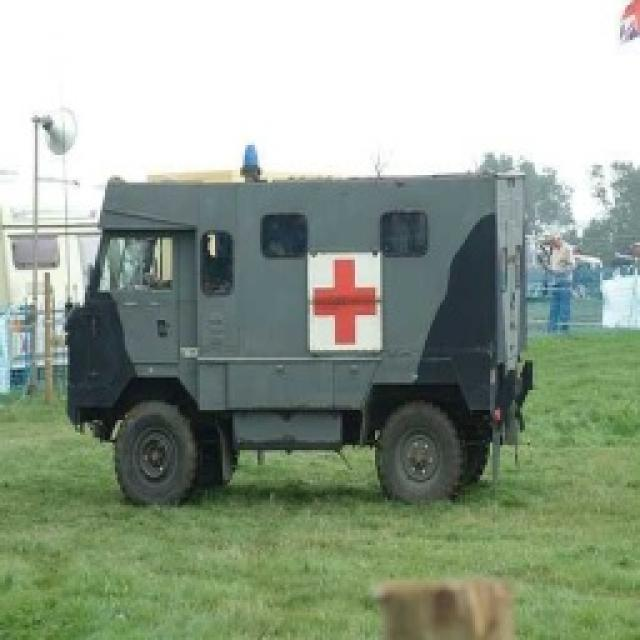ambulance: (58, 142, 532, 502)
